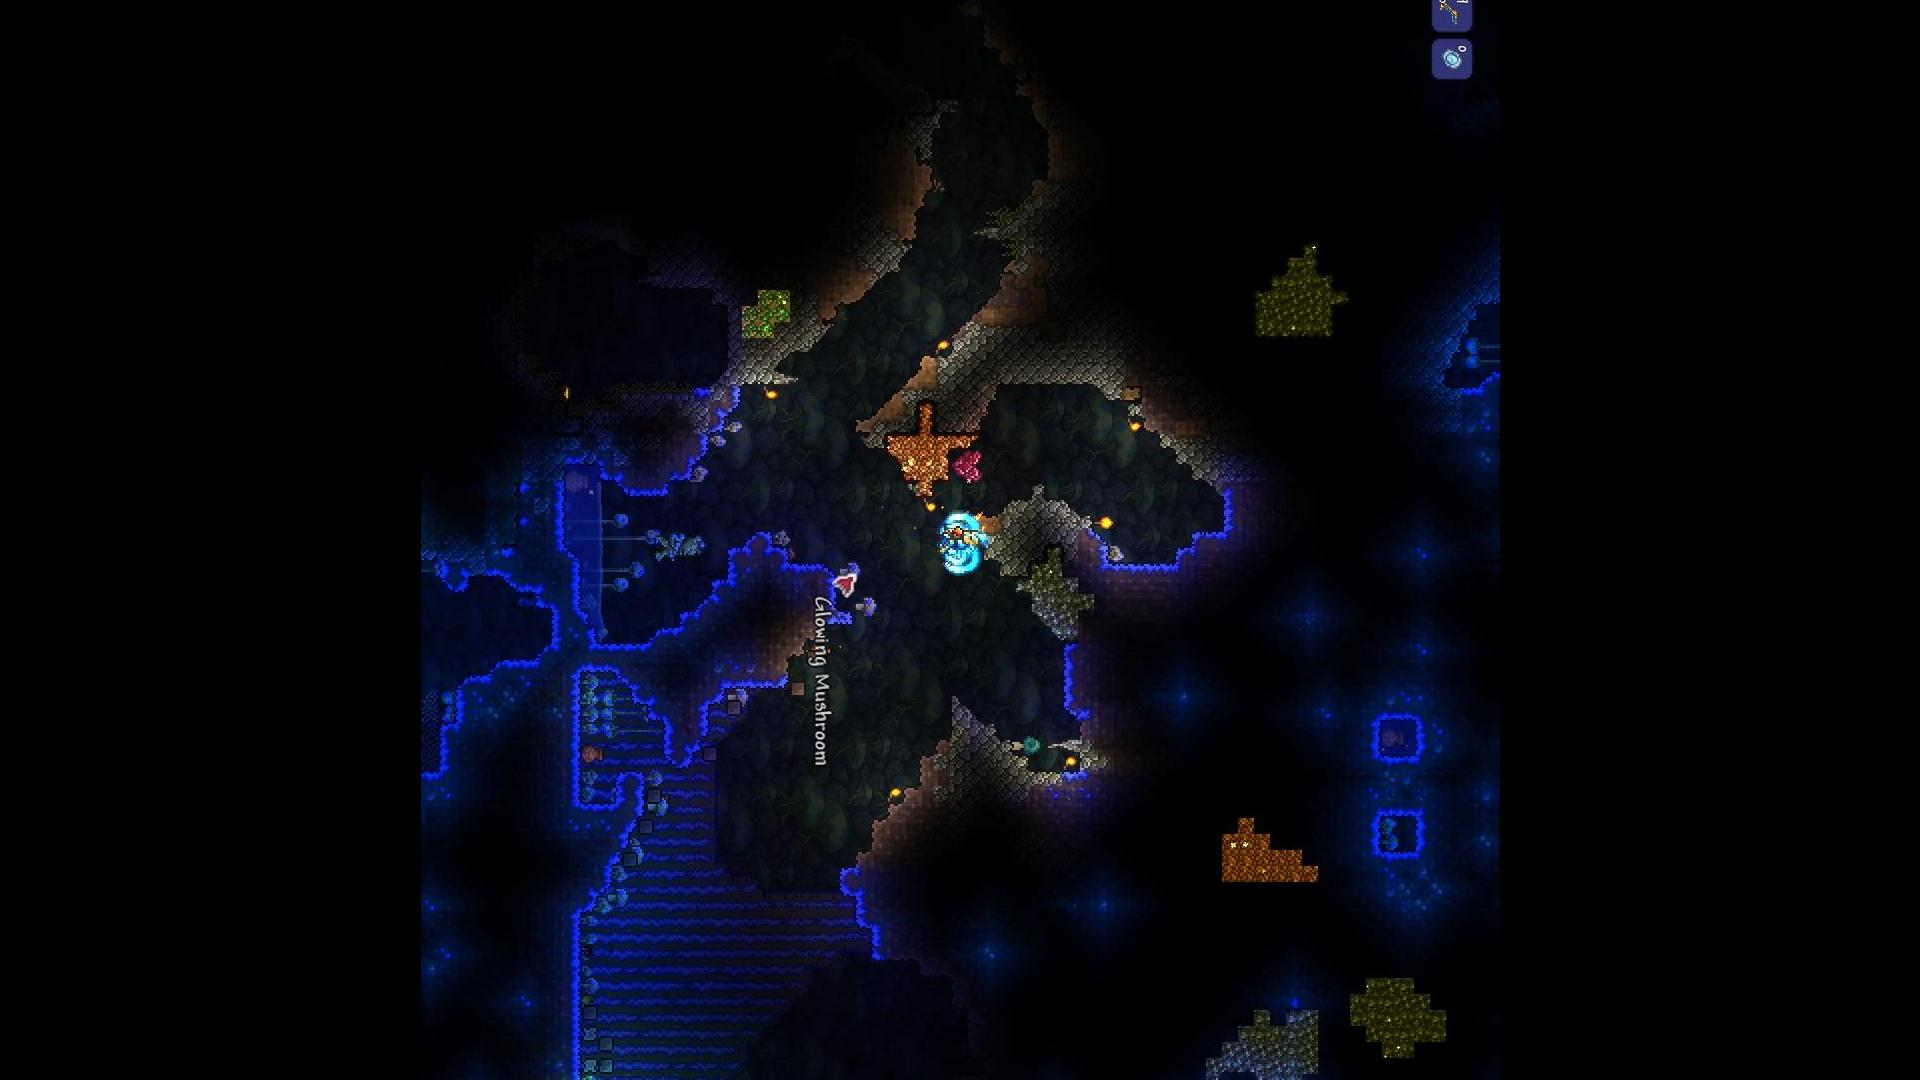lifeC: (943, 447, 981, 488)
